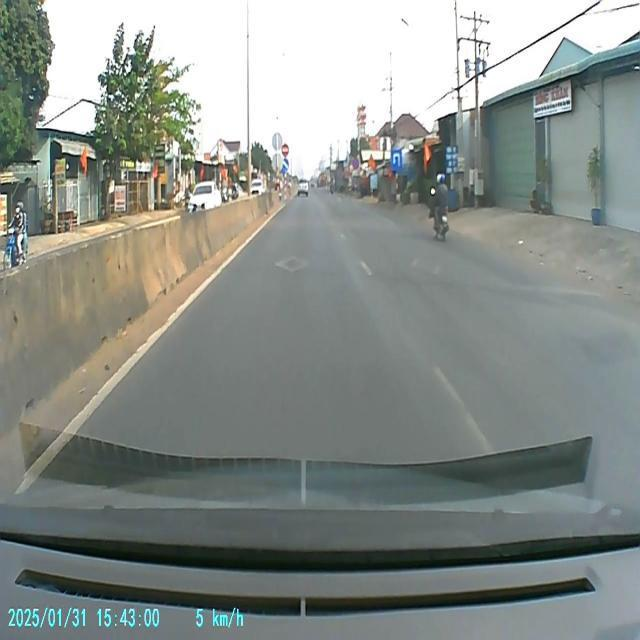102-cam-di-nguoc-chieu: (280, 143, 290, 157)
302a-huong-phai-di-vong-chuong-ngai-vat-1: (281, 158, 289, 171)
